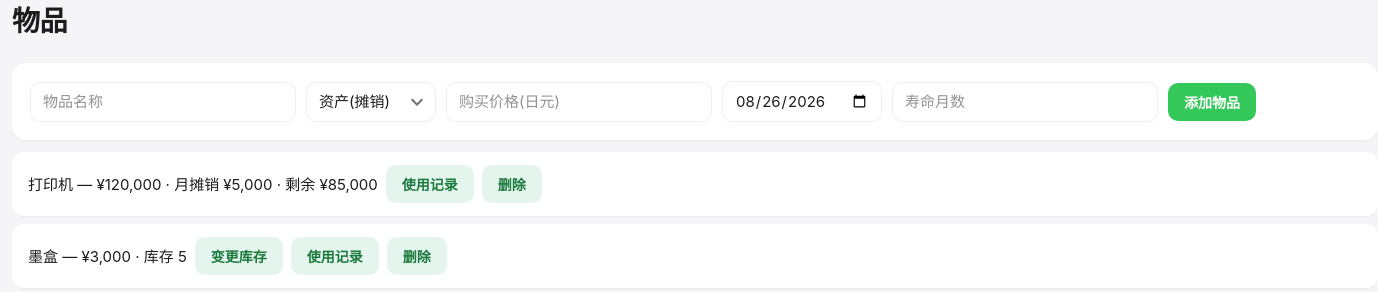
Scenario: 物品管理组件 › 删除物品后列表移除
The image size is (1378, 292).
Expected: the list item "打印机 — ¥120,000 · 月摊销 ¥5,000 · 剩余 ¥85,000 使用记录 删除" is shown, [12,152,1377,216]
Click the button "删除" in the row of "打印机": (512, 184) [482,165,542,203]
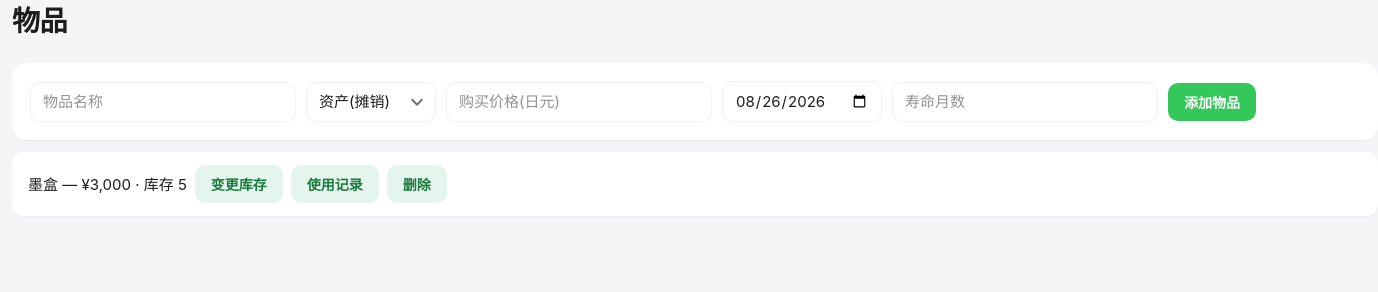
Now the list item "打印机" is gone
